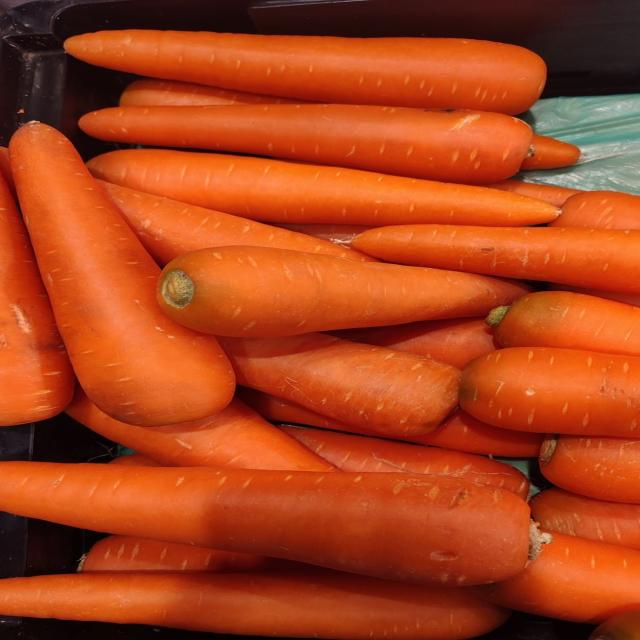carrot: (10, 122, 234, 426), (0, 462, 537, 586), (65, 30, 546, 115), (87, 149, 559, 226), (79, 104, 533, 184), (0, 569, 511, 639), (158, 246, 531, 337), (219, 333, 459, 436), (99, 180, 377, 265), (66, 388, 335, 471), (350, 225, 639, 293), (0, 175, 75, 425), (280, 426, 529, 498), (460, 347, 639, 437), (474, 532, 639, 623), (487, 291, 639, 355), (331, 317, 499, 368), (78, 536, 294, 573), (394, 409, 544, 457), (540, 432, 639, 504), (530, 487, 639, 550), (413, 407, 544, 457), (235, 385, 366, 432), (120, 78, 306, 106), (550, 190, 639, 229), (487, 179, 583, 207), (520, 134, 580, 170), (547, 283, 639, 306), (271, 223, 372, 242), (588, 603, 639, 639), (0, 146, 17, 198), (108, 453, 166, 466)
